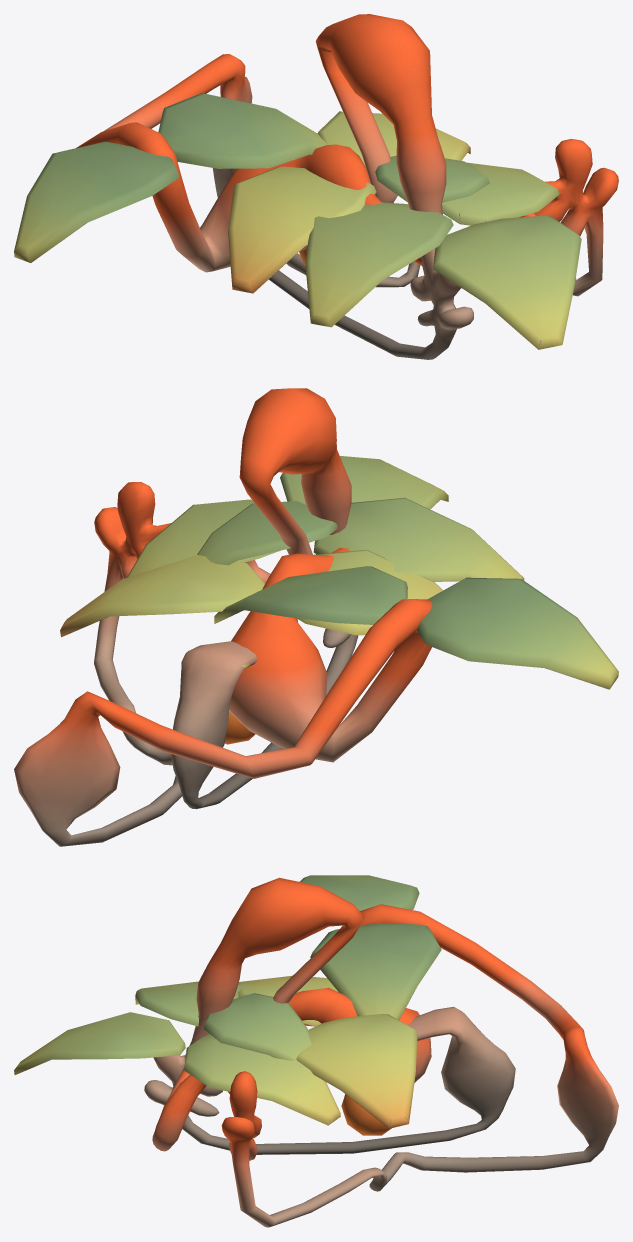
File: Time.fbx
The picture shows the model from 3 angles, top to bottom: view 1: azimuth 30°, elevation 25°; view 2: azimuth 150°, elevation 25°; view 3: azimuth 270°, elevation 25°; orthographic projection. The views are drawn at different scales.
Parts seen in each view (by area): view 1: Time_Leaf, Time_Leaf_2, Time_Body, Time_Body_2; view 2: Time_Body_2, Time_Leaf, Time_Leaf_2, Time_Body; view 3: Time_Body_2, Time_Body, Time_Leaf, Time_Leaf_2, Time.
Part boxes in pixels (x1,y1,x2,y2): Time_Leaf: (14,93,470,293); Time_Leaf_2: (305,155,581,349); Time_Body: (212,14,473,359); Time_Body_2: (76,54,618,296); Time_Body_2: (14,482,432,846); Time_Leaf: (60,550,618,689); Time_Leaf_2: (127,456,524,581); Time_Body: (171,388,358,809); Time_Body_2: (152,904,618,1227); Time_Body: (144,877,515,1154); Time_Leaf: (238,875,441,1128); Time_Leaf_2: (14,981,340,1125); Time: (341,1094,391,1135).
Size of the model in its own units: 309 by 180 by 348.
